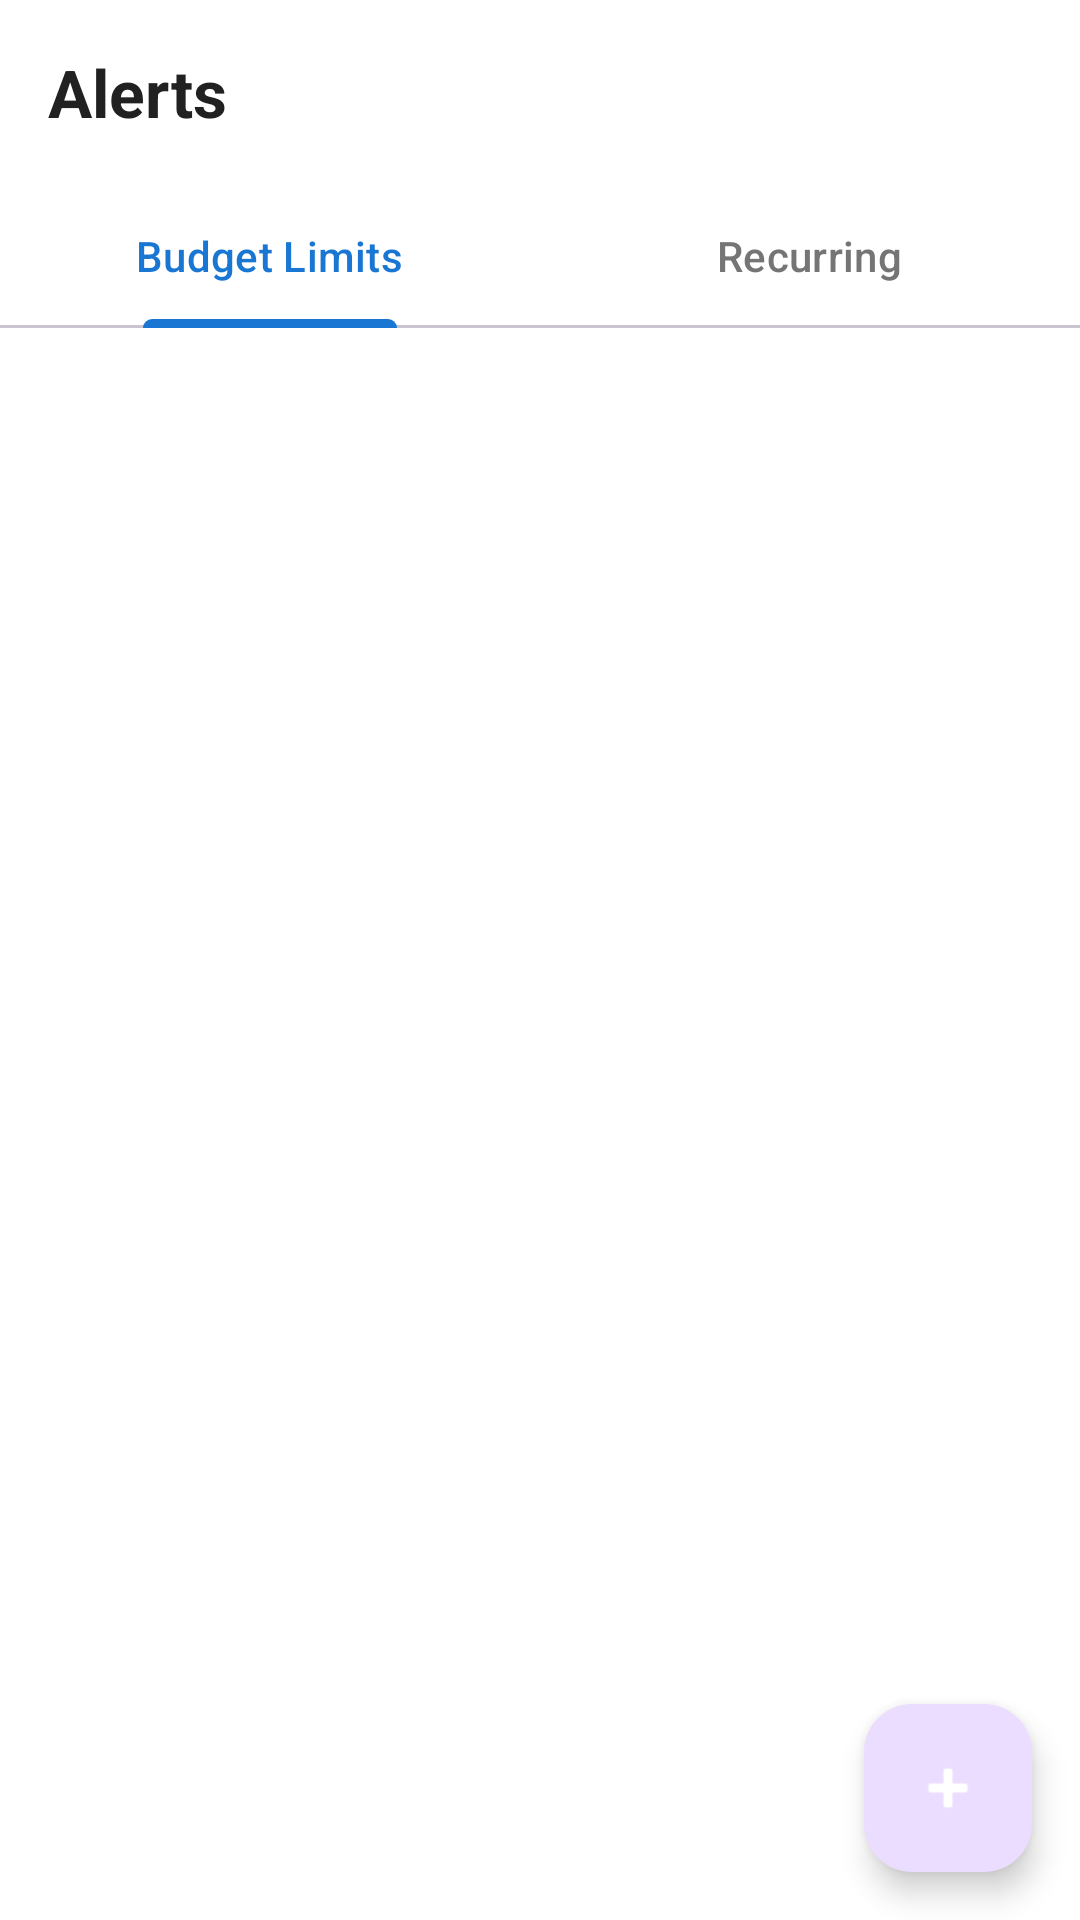

Screen size 1080px×1920px. Icon name, then its box in pixels as (x1, y1, x2, y2):
Add alert: (864, 1704, 1032, 1872)
